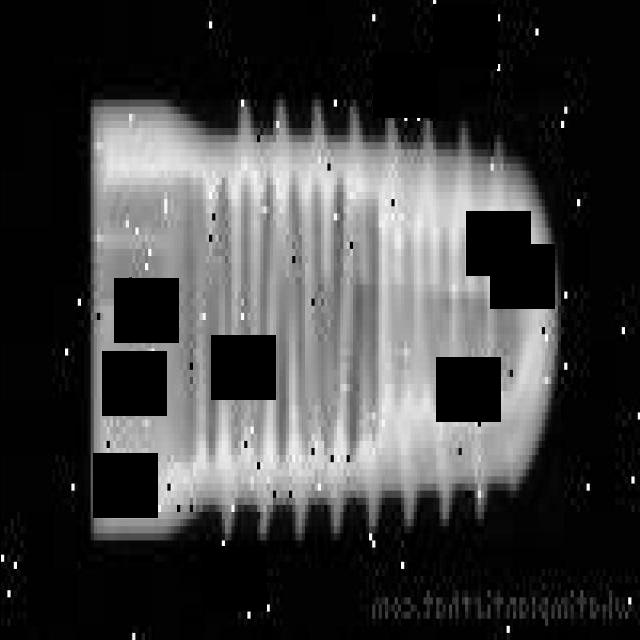Root canal obturation: (90, 100, 563, 540)
